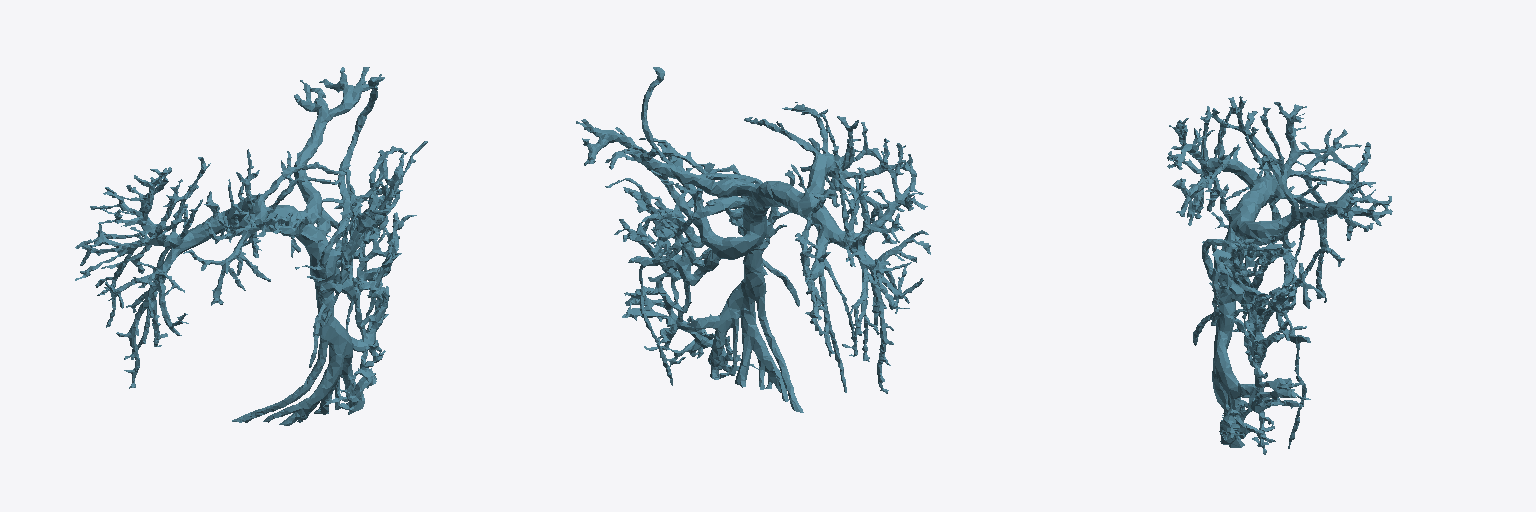
3 views of the same model, side by side, from view 1: azimuth 30°, elevation 25°; view 2: azimuth 150°, elevation 25°; view 3: azimuth 270°, elevation 25° (orthographic).
Visible parts, largest first — view 1: Polygonal_Model_7_Triangles_0; view 2: Polygonal_Model_7_Triangles_0; view 3: Polygonal_Model_7_Triangles_0.
Boxes of the visible parts, <box> form: Polygonal_Model_7_Triangles_0: <box>75,67,427,425</box>; Polygonal_Model_7_Triangles_0: <box>576,67,930,412</box>; Polygonal_Model_7_Triangles_0: <box>1167,96,1392,454</box>.
Size of the model in its own units: 9.52 by 8.7 by 5.76.